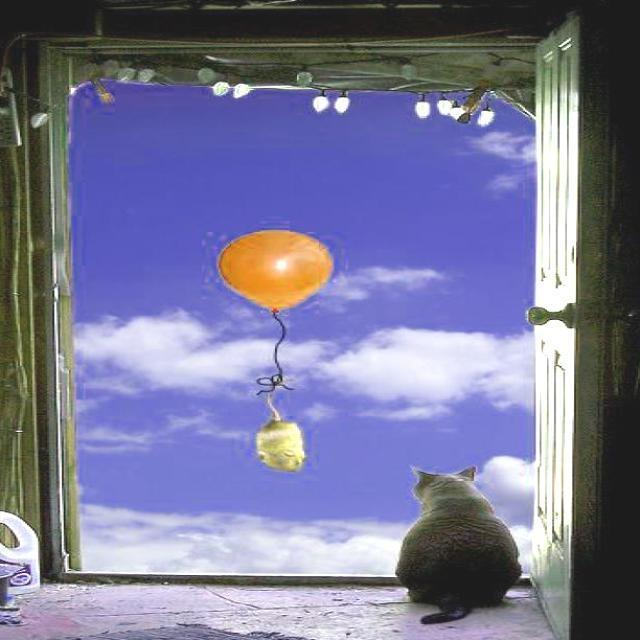door: (522, 13, 622, 639)
